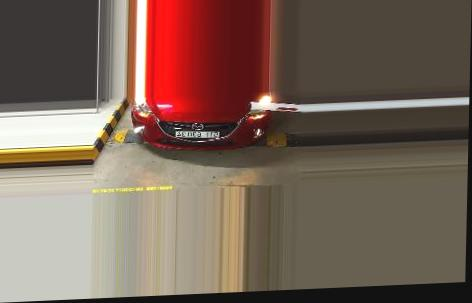License_Plate: (174, 127, 220, 140)
